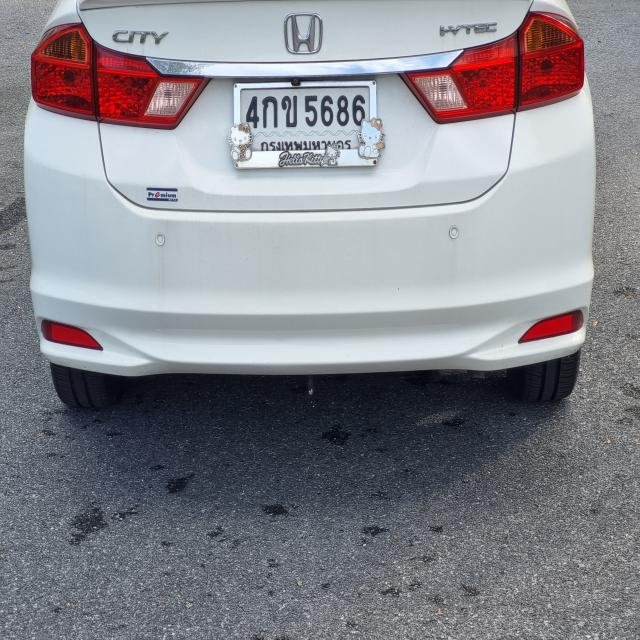license_plate: (231, 75, 386, 169)
